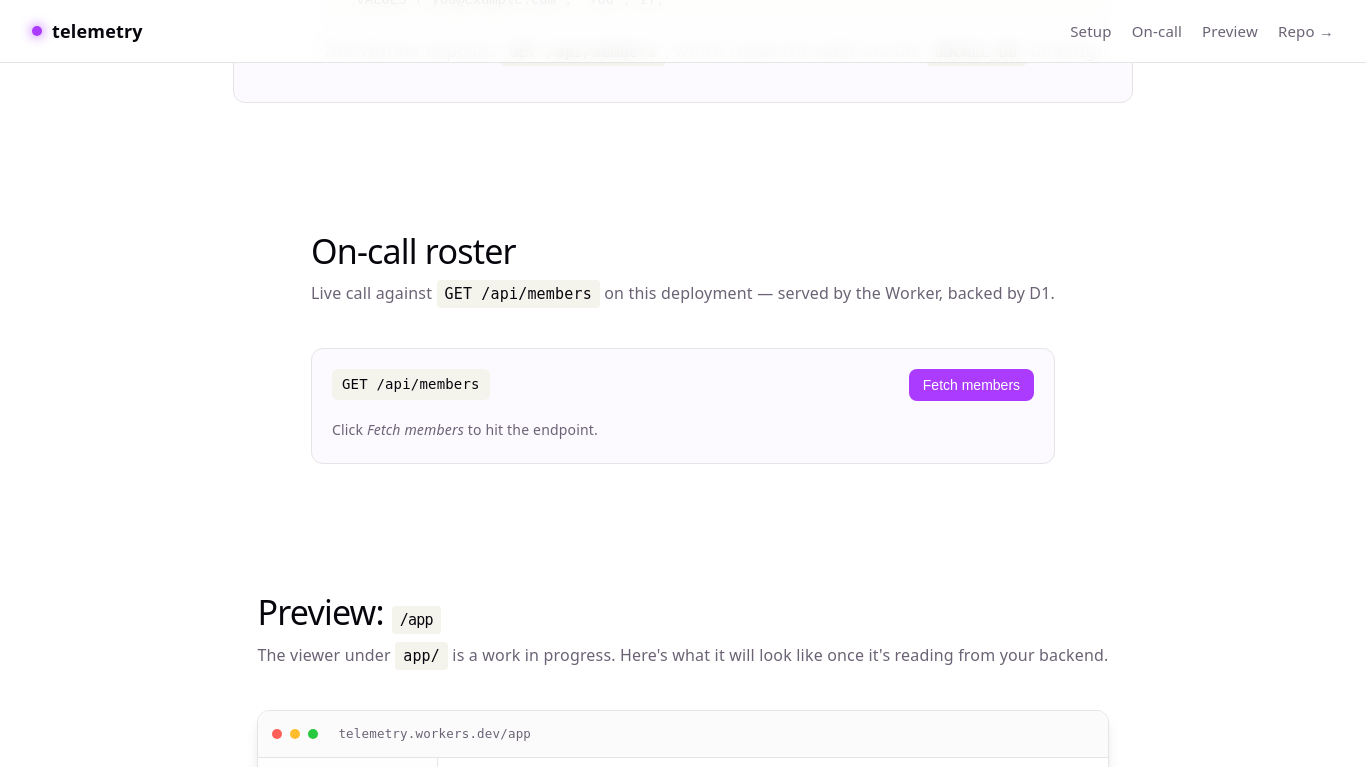
Test: <App /> › renders members in a table when the API responds ok
The width and height of the screenshot is (1366, 767).
(page scrolled)
Click the button "Fetch members". click: (971, 385)
box: x1=909 y1=369 x2=1034 y2=401
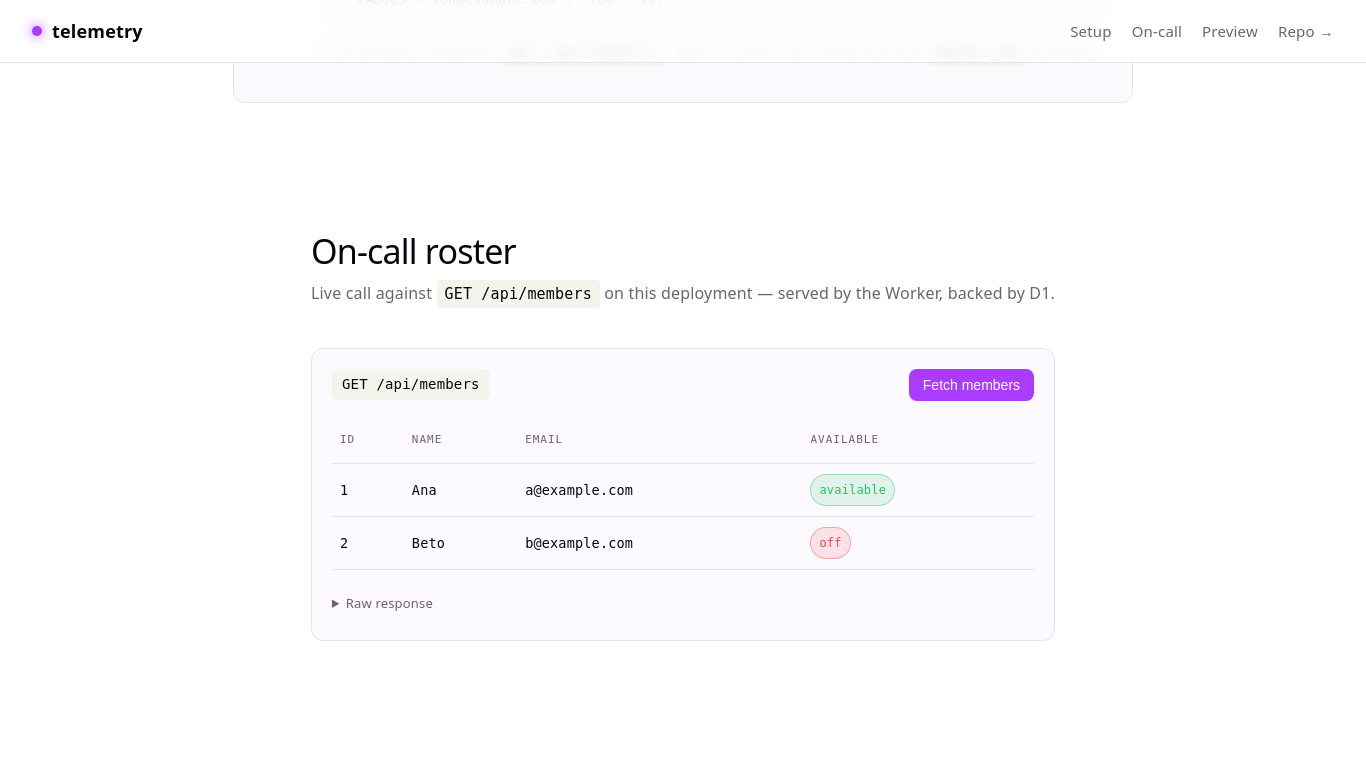
Result: the table is shown at x1=332 y1=417 x2=1034 y2=570
Result: the number of rows is 3 at x1=332 y1=417 x2=1034 y2=463; x1=332 y1=463 x2=1034 y2=516; x1=332 y1=516 x2=1034 y2=570
Result: the text "Ana" is shown at x1=404 y1=463 x2=517 y2=516
